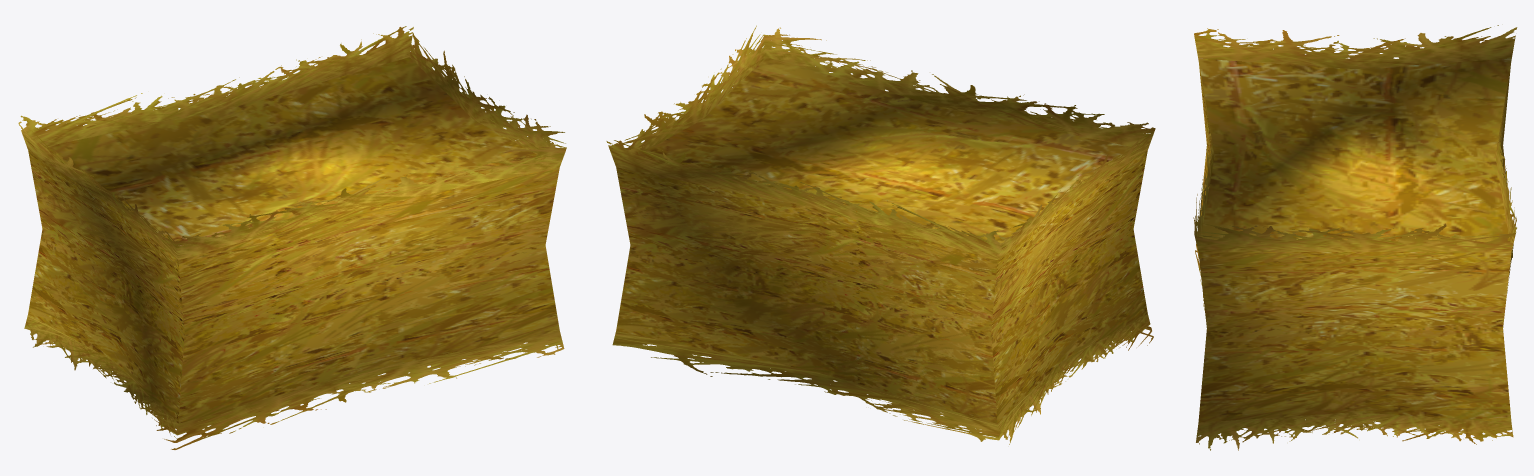
Rendered from HayBailSquare.fbx.
3 views of the same model, side by side, from view 1: azimuth 30°, elevation 25°; view 2: azimuth 150°, elevation 25°; view 3: azimuth 270°, elevation 25° (orthographic). The views are drawn at different scales.
Parts seen in each view (by area): view 1: Cube; view 2: Cube; view 3: Cube.
Part boxes in pixels (x1,y1,x2,y2): Cube: (18,26,566,449); Cube: (606,25,1155,444); Cube: (1193,25,1517,450).
Bounding box in the file's own units: 72.15 × 40.61 × 49.26.
